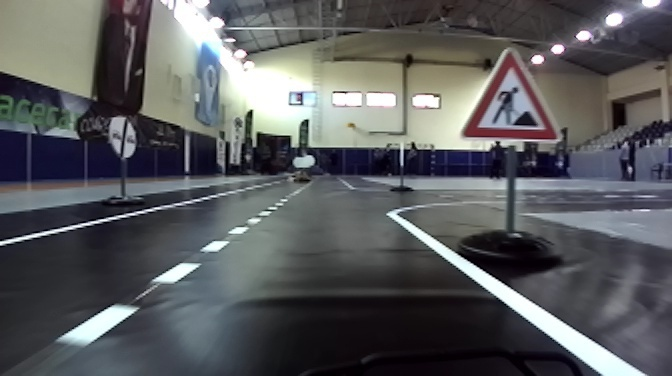yol_yapimi: (456, 42, 561, 142)
